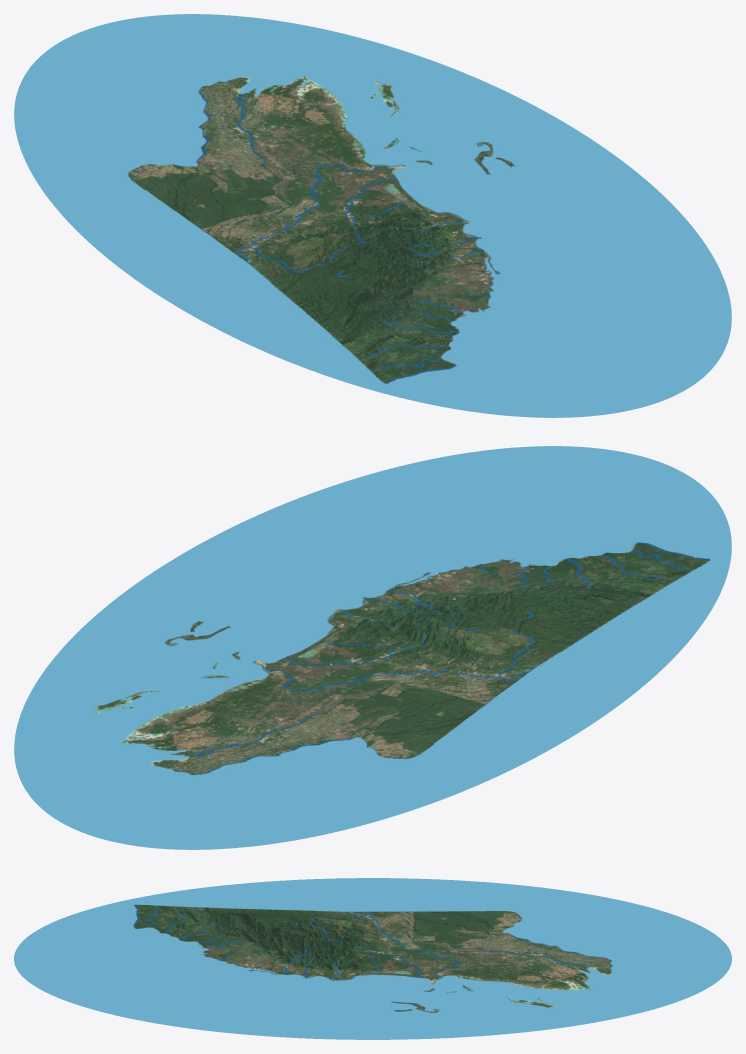
Rendered from BLZ-previa-terrain.glb.
The picture shows the model from 3 angles, top to bottom: view 1: azimuth 30°, elevation 25°; view 2: azimuth 150°, elevation 25°; view 3: azimuth 270°, elevation 25°; orthographic projection. The views are drawn at different scales.
Visible parts, largest first — view 1: Belize; view 2: Belize; view 3: Belize.
Part boxes in pixels (left/top/right/bottom): Belize: left=14, top=14, right=731, bottom=417; Belize: left=14, top=446, right=731, bottom=849; Belize: left=14, top=878, right=731, bottom=1039.
Size of the model in its own units: 1.4 by 0.0417 by 2.63.
1 material, 1 textured.
